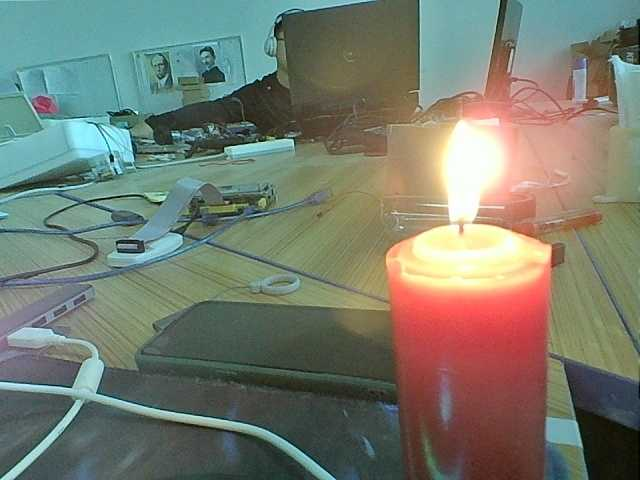candle: (377, 221, 584, 480)
fire: (424, 113, 498, 239)
